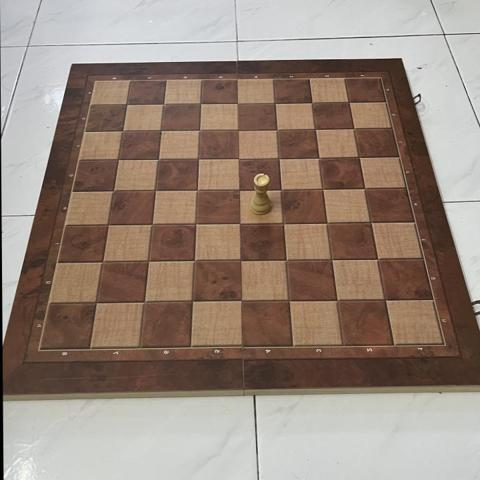xcorner: (119, 95, 136, 112), (156, 95, 173, 112), (115, 122, 132, 139), (154, 122, 171, 139), (231, 121, 248, 138), (308, 121, 325, 138), (346, 121, 363, 138), (111, 151, 128, 168), (192, 150, 209, 167), (232, 150, 249, 167), (351, 149, 368, 166), (107, 182, 124, 199), (191, 181, 208, 198), (316, 180, 333, 197), (357, 180, 374, 197), (102, 216, 119, 233), (277, 214, 294, 231), (320, 214, 337, 231), (188, 252, 205, 269), (370, 250, 387, 267), (139, 293, 156, 310), (235, 292, 252, 309), (330, 291, 347, 308), (194, 95, 210, 112), (231, 95, 247, 112), (268, 95, 284, 112), (304, 95, 321, 111), (341, 95, 358, 111), (270, 121, 286, 138), (152, 150, 168, 167), (272, 150, 289, 166), (312, 149, 328, 166), (149, 182, 166, 198), (233, 181, 249, 198), (274, 181, 291, 197), (146, 216, 163, 232), (190, 215, 206, 232), (233, 215, 250, 231), (363, 214, 380, 230), (97, 253, 113, 270), (234, 252, 251, 268), (280, 251, 296, 268), (325, 251, 342, 267), (91, 294, 107, 311), (187, 293, 204, 309), (283, 292, 300, 308), (378, 290, 394, 307), (193, 122, 209, 138), (143, 253, 159, 269)
